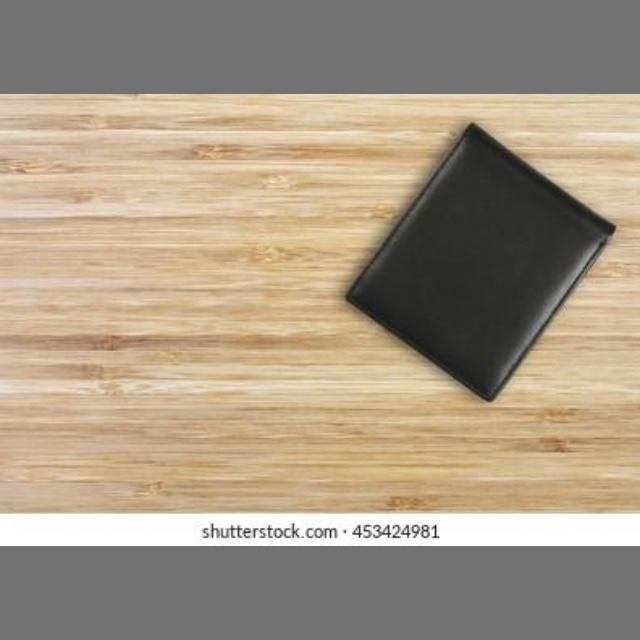Wallet: (330, 104, 628, 402)
